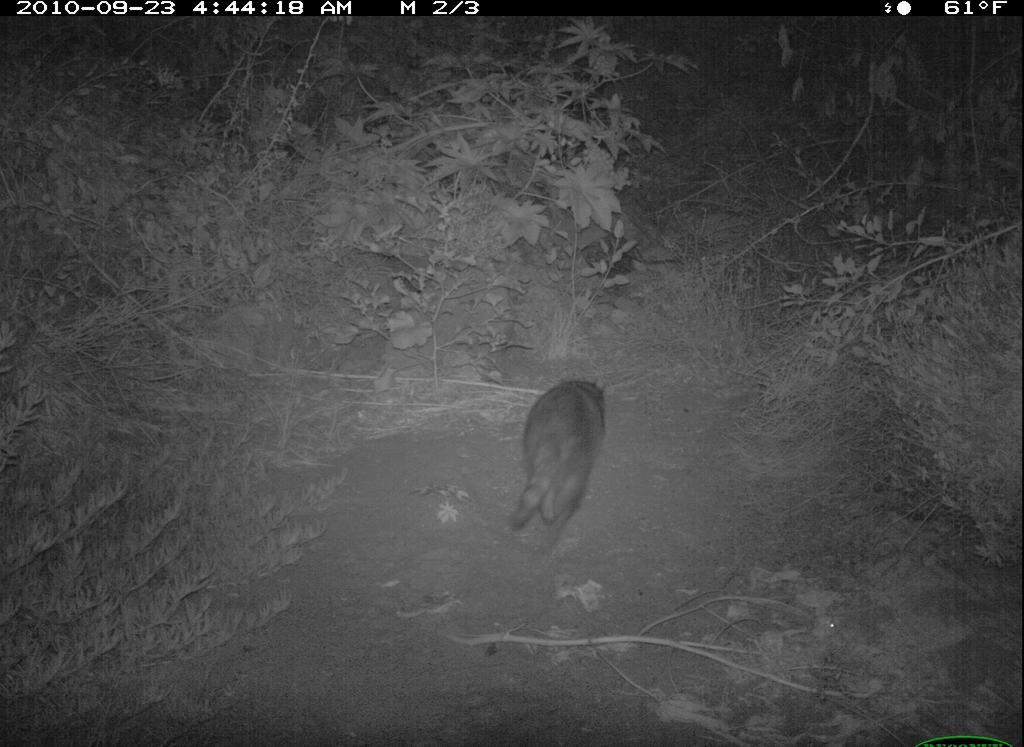raccoon: (506, 367, 632, 555)
